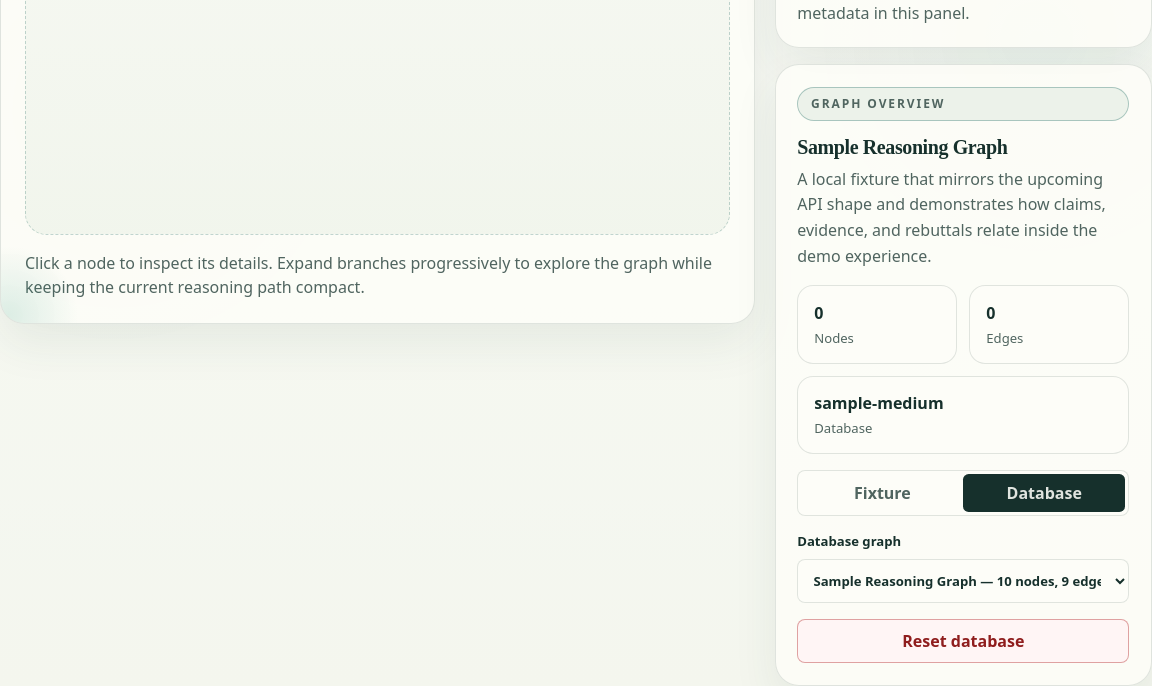
Test: DemoPage › ignores a stale graph response after the selected graph changes
(page scrolled)
Select "Large Flat-Earth Reasoning Graph — 1,000 nodes, 1,248 edges — flat-earth-large" in the dropdown labelled "Database graph": (963, 581) [797, 559, 1129, 603]
(page scrolled)
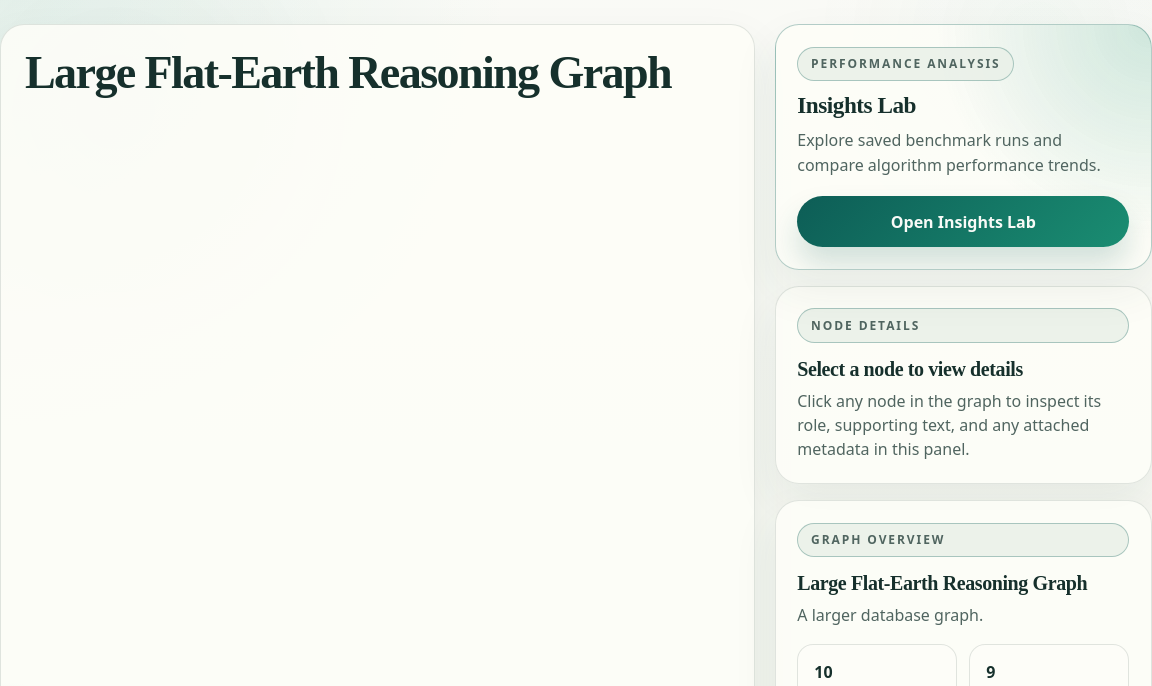
Expected: the 1st heading "Large Flat-Earth Reasoning Graph" is shown, [25, 49, 730, 98]
